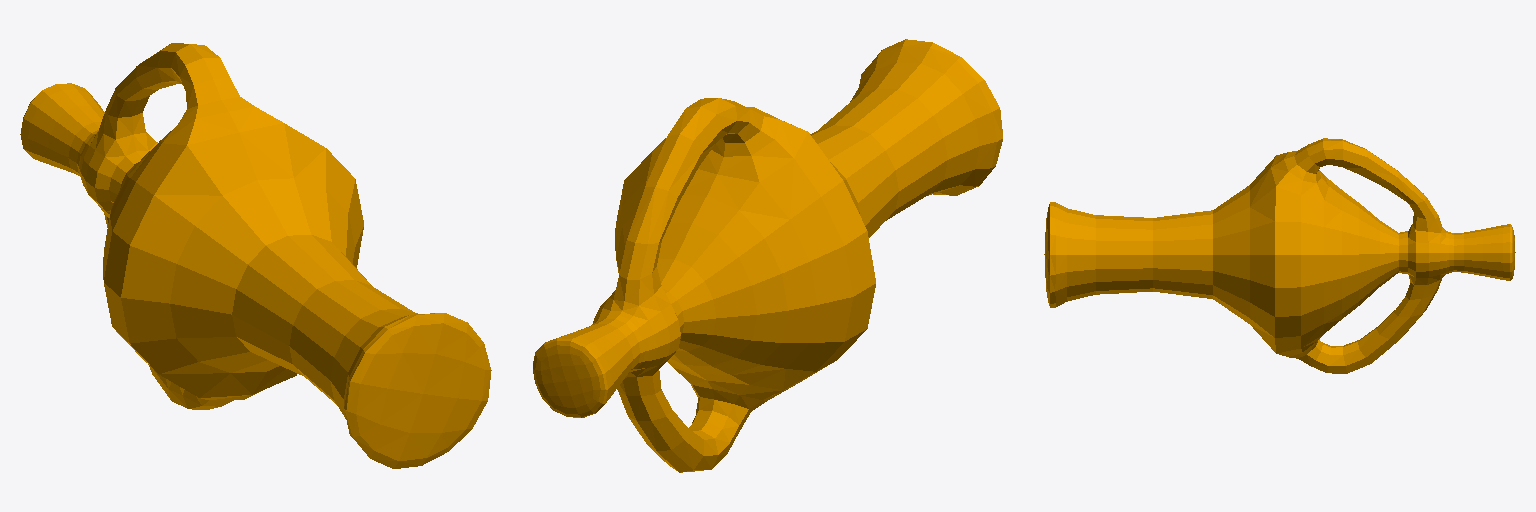
The robot description file, URDF, robot "64":
<?xml version="1.0" ?>
<robot name="64">
  <link name="body">
    <visual>
      <geometry>
        <mesh filename="../shapes/64.obj"/>
      </geometry>
    </visual>
    <collision>
      <geometry>
        <mesh filename="../shapes/64.obj"/>
      </geometry>
    </collision>
  </link>
</robot>

--- What the picture shows (computed from the rendered views, not written in the file) ---
Views: 3 orthographic renders of the robot side by side, from view 1: azimuth 30°, elevation 25°; view 2: azimuth 150°, elevation 25°; view 3: azimuth 270°, elevation 25°.
Robot: 64 — 1 links, 0 joints (none); root link body; default pose: every joint at zero.
Visible links, largest first — view 1: body; view 2: body; view 3: body.
Boxes of the visible links, left/top/right/bottom form: body: left=20, top=43, right=491, bottom=468; body: left=533, top=39, right=1002, bottom=472; body: left=1044, top=138, right=1515, bottom=373.
Bounding box of the posed robot: 4.42 × 11.62 × 6.28 m (x, y, z).
1 mesh visuals loaded from 1 distinct referenced files (1 OBJ).